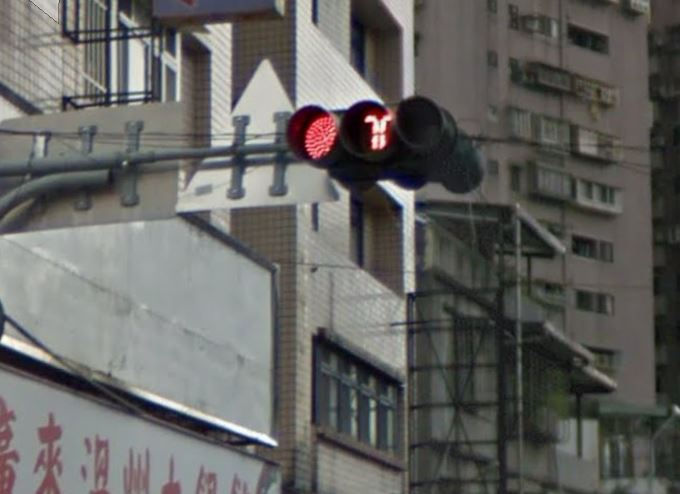Traffic_light_red: (284, 95, 461, 167)
